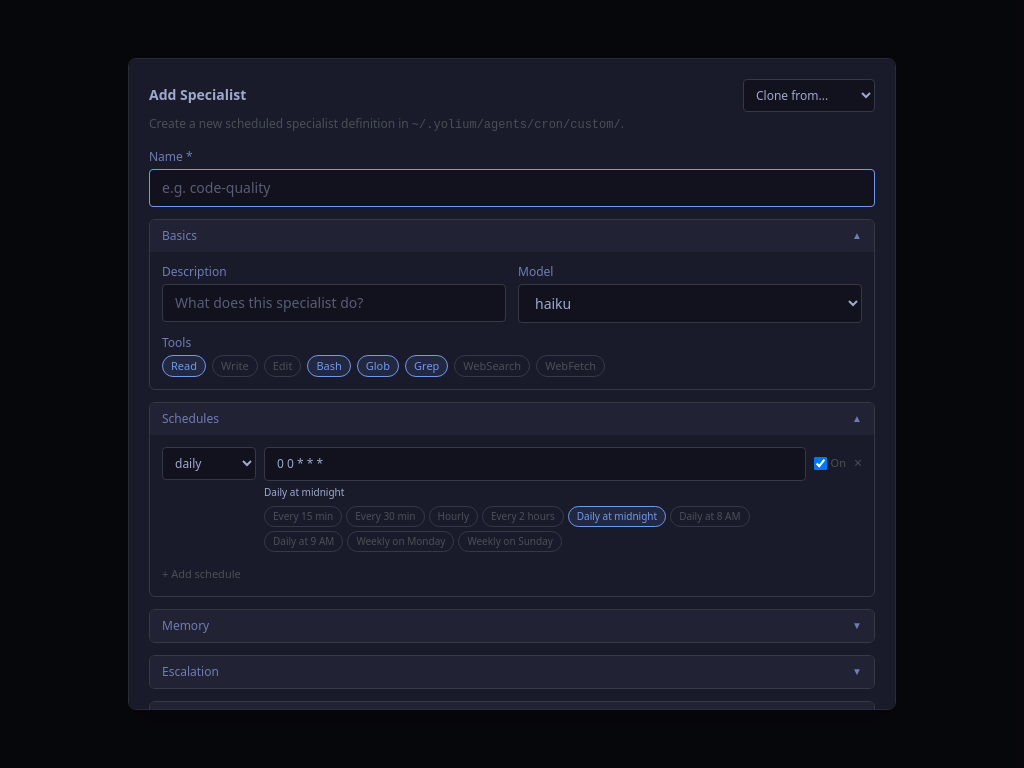
AddSpecialistDialog › should populate guided form from cloned specialist definition
Note: Clone from security-monitor
Step 1. Select "security-monitor" in the dropdown with test id "specialist-clone-select" → (809, 95), box top-left (743, 79), bottom-right (875, 112)
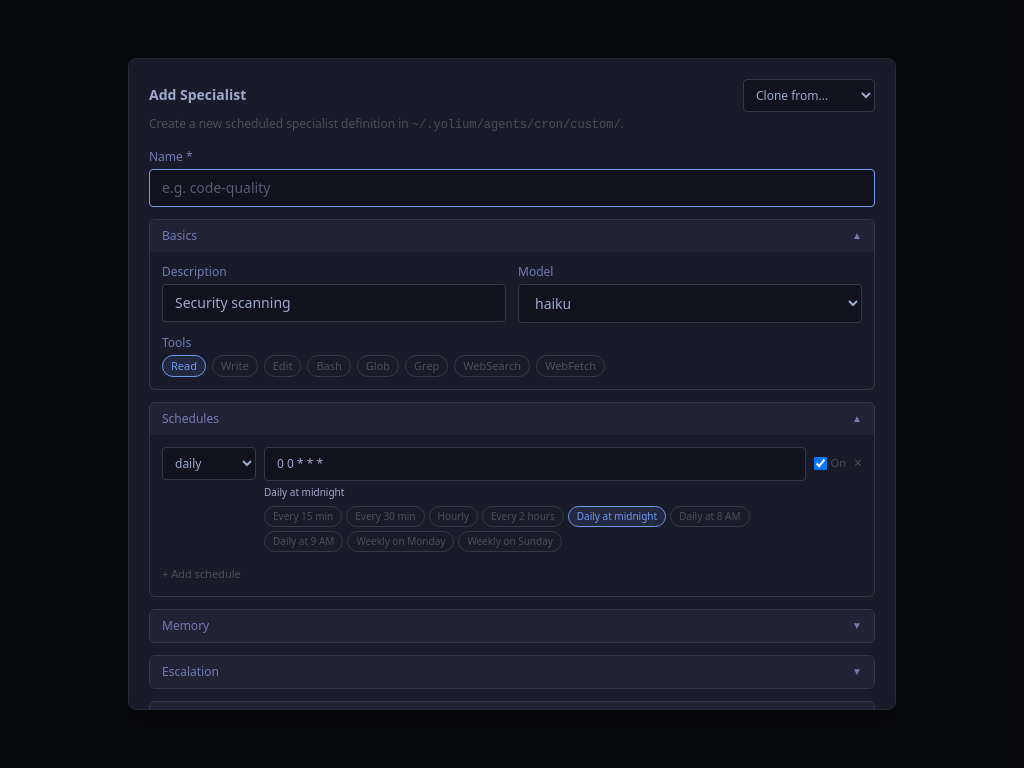
Check: the field with test id "specialist-name-input" is empty, box top-left (149, 169), bottom-right (875, 207)
Check: the field with test id "guided-description" holds "Security scanning", box top-left (162, 284), bottom-right (506, 322)
